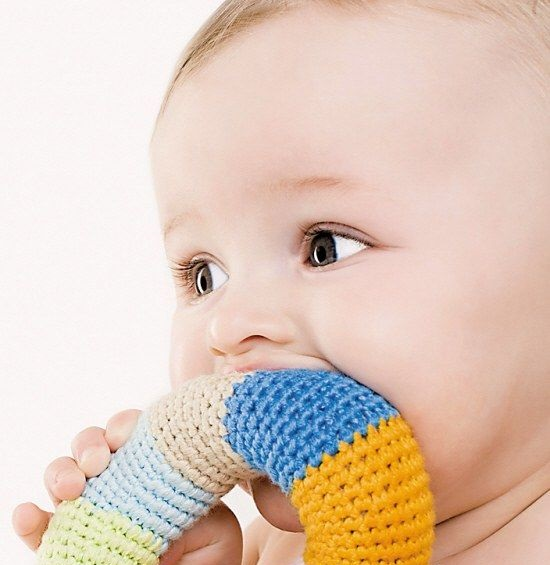face: (143, 10, 541, 525)
